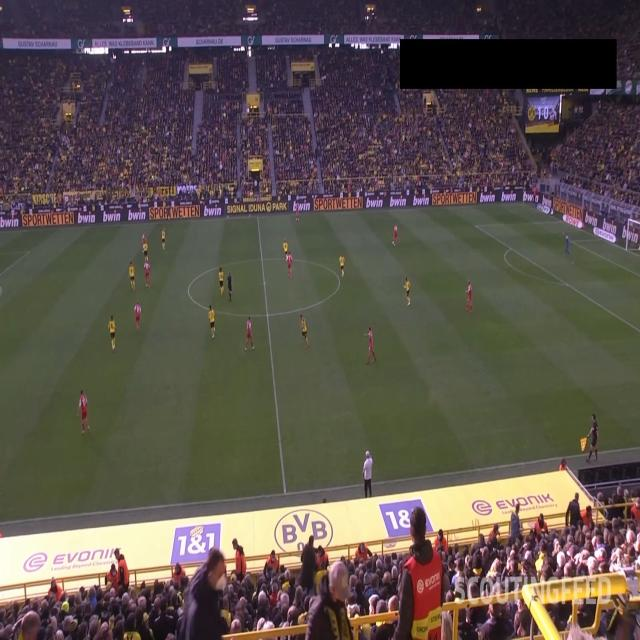ball: (392, 240, 394, 245)
